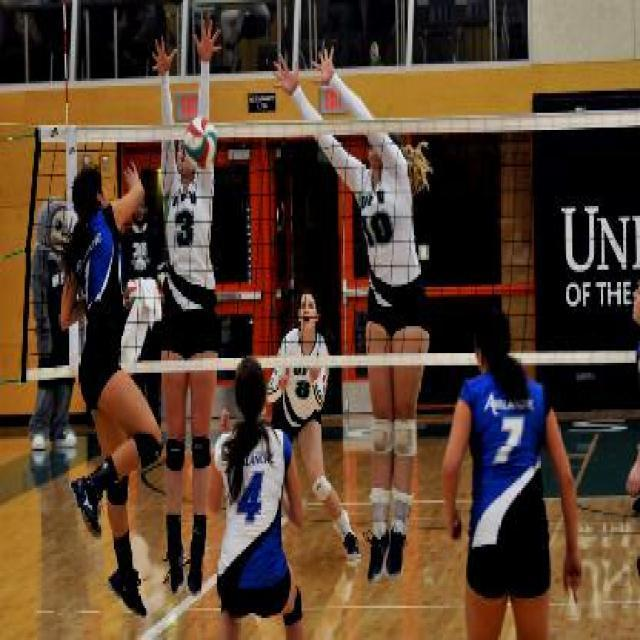volleyball: (182, 120, 217, 170)
